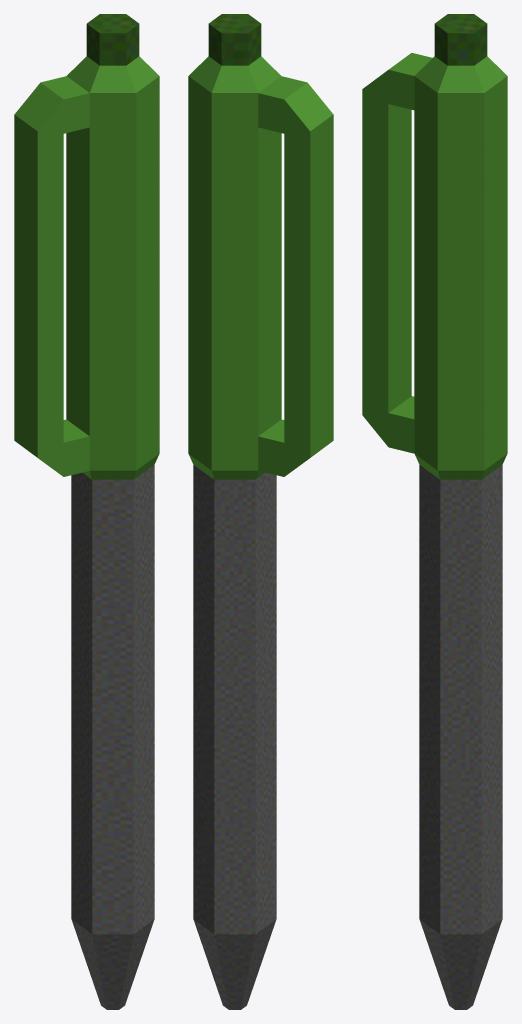
The model's file is SM_Pen.fbx.
3 views of the same model, side by side, from view 1: azimuth 30°, elevation 25°; view 2: azimuth 150°, elevation 25°; view 3: azimuth 330°, elevation 25° (orthographic).
Parts seen in each view (by area): view 1: SM_Pen; view 2: SM_Pen; view 3: SM_Pen.
Part boxes in pixels (x1=…): SM_Pen: x1=14, y1=14, x2=159, y2=1009; SM_Pen: x1=188, y1=14, x2=333, y2=1009; SM_Pen: x1=362, y1=14, x2=507, y2=1009.
Bounding box in the file's own units: 1.46 × 11.27 × 0.9676.
